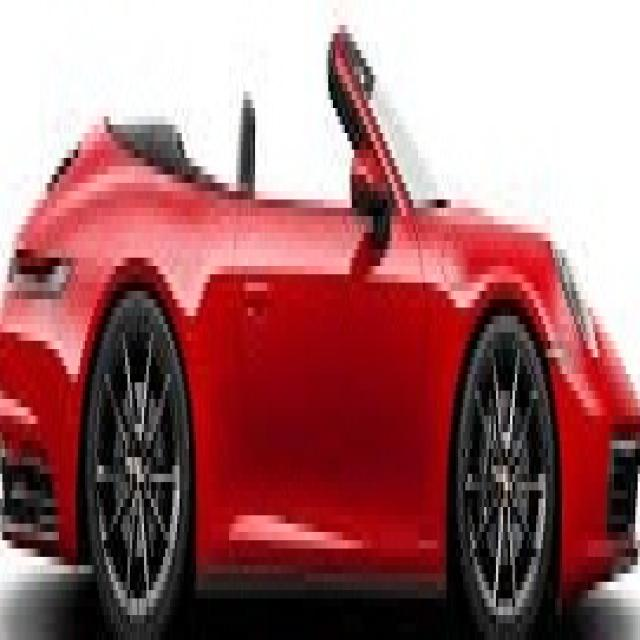red: (2, 29, 640, 640)
